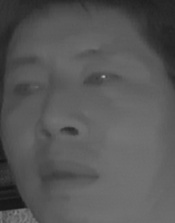eye: (81, 66, 121, 92), (10, 78, 44, 99)
mouth: (32, 150, 101, 194)
